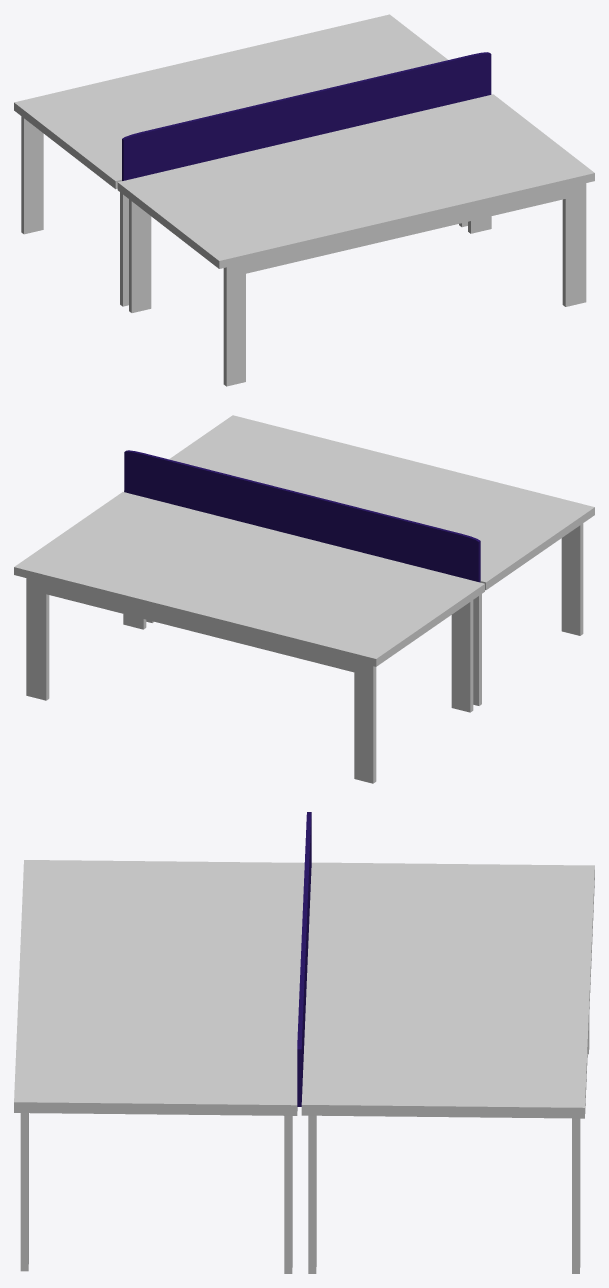
Rendered from table .fbx.
The picture shows the model from 3 angles, top to bottom: view 1: azimuth 30°, elevation 25°; view 2: azimuth 150°, elevation 25°; view 3: azimuth 270°, elevation 25°; orthographic projection. The views are drawn at different scales.
Parts seen in each view (by area): view 1: Cube.009, Cube.001, Cube, Cube.012, Cube.010, Cube.002, Cube.004; view 2: Cube.001, Cube.009, Cube, Cube.002, Cube.004, Cube.012, Cube.010; view 3: Cube.001, Cube.009, Cube, Cube.002, Cube.004, Cube.012, Cube.010.
Boxes of the visible parts, <box> form: Cube.009: <box>117,94,594,268</box>; Cube.001: <box>14,14,447,189</box>; Cube: <box>122,52,491,180</box>; Cube.012: <box>223,183,586,386</box>; Cube.010: <box>129,199,491,312</box>; Cube.002: <box>21,116,43,234</box>; Cube.004: <box>120,192,467,306</box>; Cube.001: <box>14,492,484,666</box>; Cube.009: <box>124,415,594,590</box>; Cube: <box>124,450,480,582</box>; Cube.002: <box>26,578,376,783</box>; Cube.004: <box>123,600,473,712</box>; Cube.012: <box>561,523,583,635</box>; Cube.010: <box>146,594,481,705</box>; Cube.001: <box>301,862,594,1118</box>; Cube.009: <box>14,860,304,1115</box>; Cube: <box>297,812,311,1106</box>; Cube.002: <box>572,1017,589,1273</box>; Cube.004: <box>308,1115,316,1273</box>; Cube.012: <box>20,1113,28,1271</box>; Cube.010: <box>284,1116,292,1273</box>.
Size of the model in its own units: 291 by 126 by 288.
